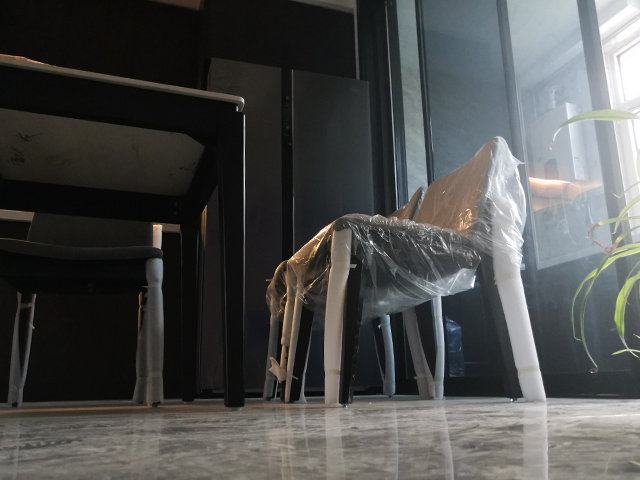stool: (259, 133, 549, 410), (1, 209, 171, 413)
table: (1, 52, 249, 413)
